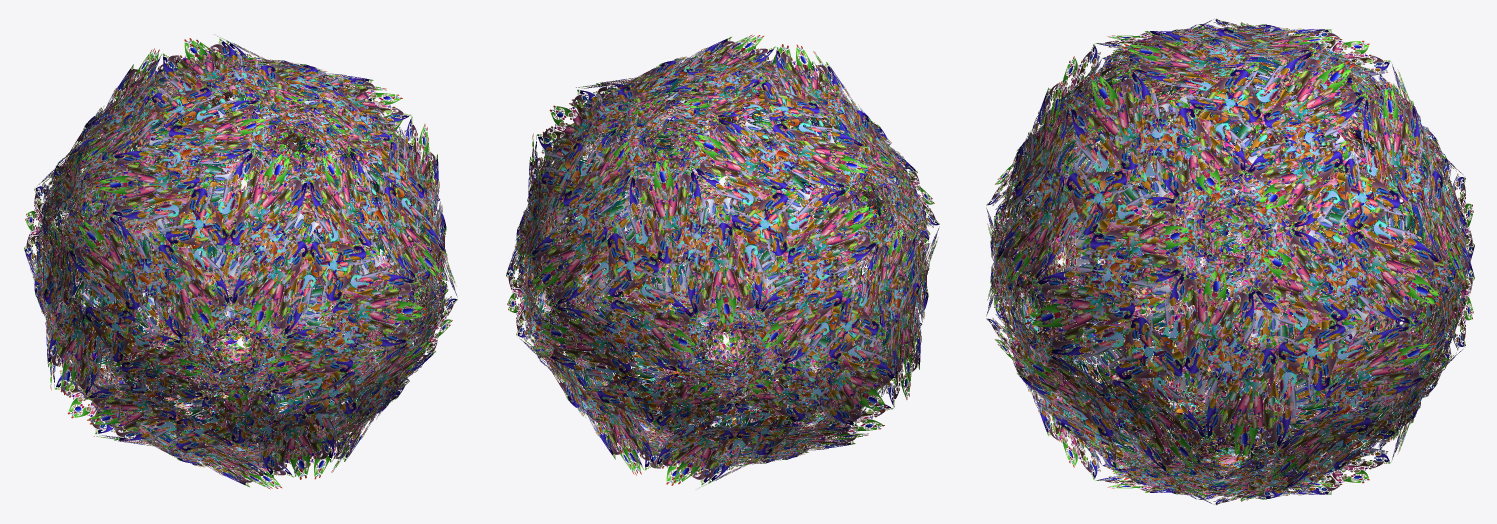
File: MedialPentagonalHexecontahedron12.gltf
3 views of the same model, side by side, from view 1: azimuth 30°, elevation 25°; view 2: azimuth 150°, elevation 25°; view 3: azimuth 270°, elevation 25° (orthographic). The views are drawn at different scales.
Parts seen in each view (by area): view 1: MedialPentagonalHexecontahedron12; view 2: MedialPentagonalHexecontahedron12; view 3: MedialPentagonalHexecontahedron12.
Part boxes in pixels (x1=…): MedialPentagonalHexecontahedron12: x1=24, y1=36, x2=457, y2=489; MedialPentagonalHexecontahedron12: x1=506, y1=34, x2=939, y2=487; MedialPentagonalHexecontahedron12: x1=986, y1=18, x2=1474, y2=505.
Bounding box in the file's own units: 2.46 × 2.46 × 2.46.
Materials: 1 (1 with a texture image).
